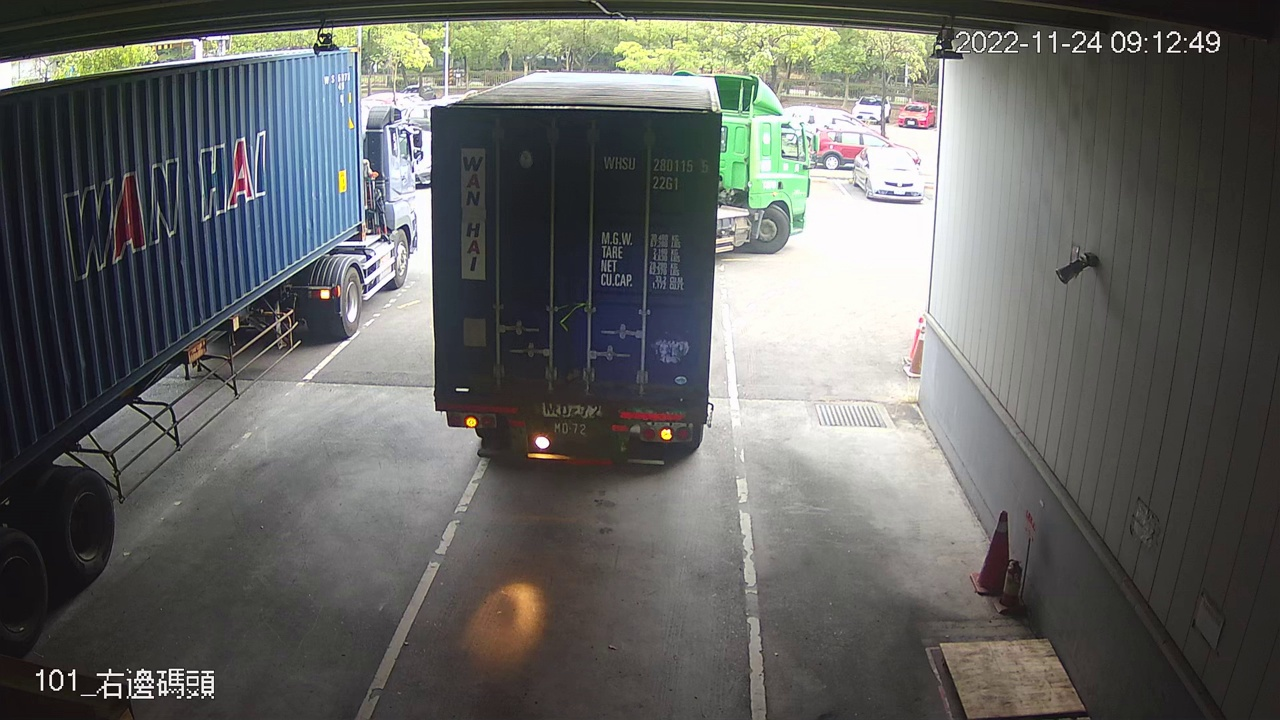container: (599, 146, 713, 198)
